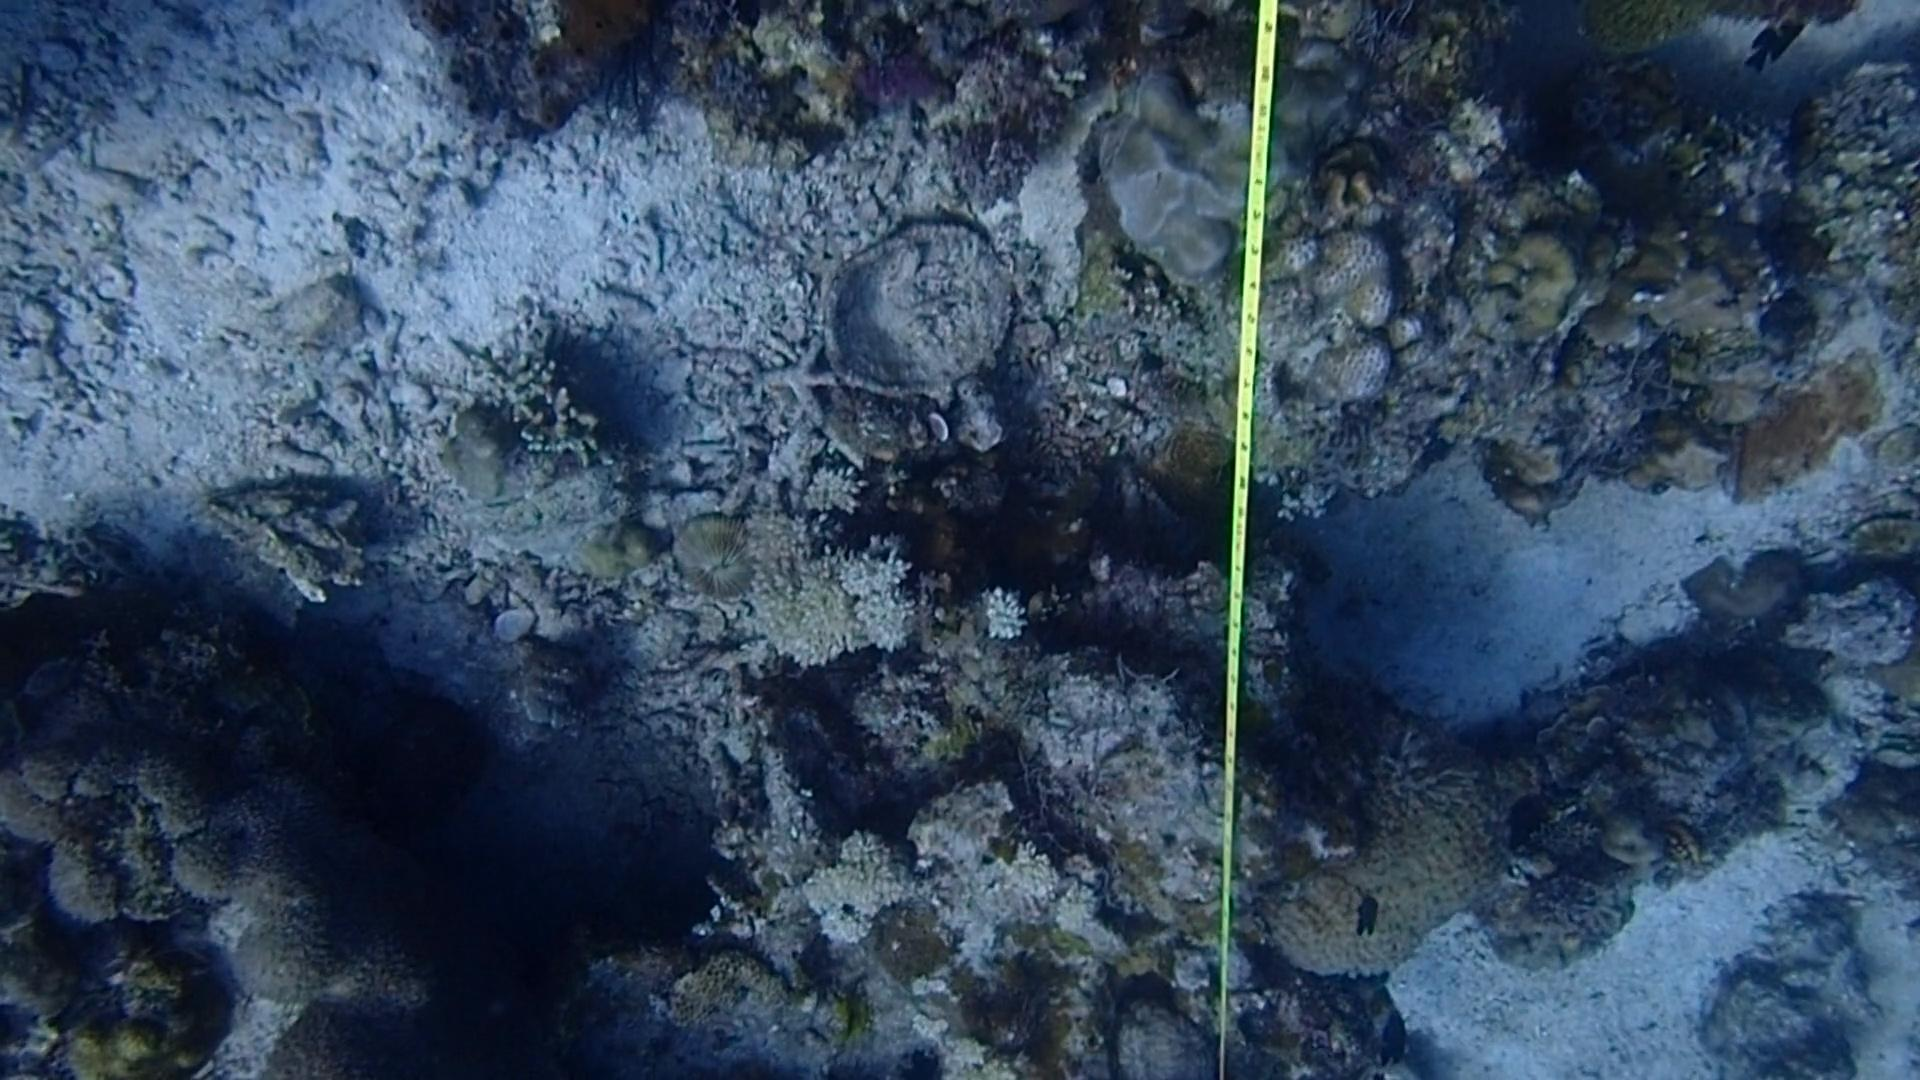Dark Fish: (1487, 785, 1564, 849), (1735, 15, 1804, 80), (1367, 1010, 1415, 1069), (1345, 885, 1387, 949)
